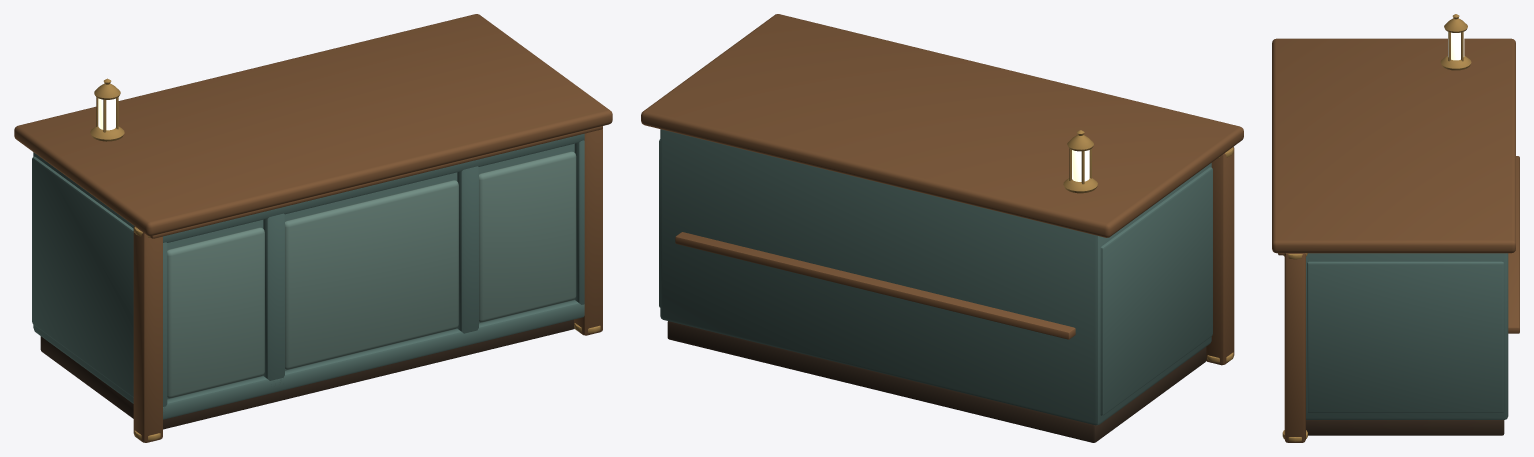
The model's file is hall_reception_desk.glb.
3 views of the same model, side by side, from view 1: azimuth 30°, elevation 25°; view 2: azimuth 150°, elevation 25°; view 3: azimuth 270°, elevation 25° (orthographic). The views are drawn at different scales.
Visible parts, largest first — view 1: Top, RaisedPanel.001, EndPanel, RaisedPanel, RaisedPanel.002, FrontRail, EndPost, Kick, EndPost.001, Carcass, FrontRail.001, FrontStile.002 (+4 smaller); view 2: Carcass, Top, EndPanel, Kick, StaffShelf, EndPost; view 3: Top, EndPanel.001, Carcass, EndPost.001, Kick, StaffShelf, LanternGlass, LanternBase, LanternCap.
Part boxes in pixels (<box>): Top: <box>14,14,612,236</box>; RaisedPanel.001: <box>285,180,458,369</box>; EndPanel: <box>32,156,133,397</box>; RaisedPanel: <box>167,227,264,398</box>; RaisedPanel.002: <box>479,151,576,322</box>; FrontRail: <box>163,300,584,419</box>; EndPost: <box>133,226,162,442</box>; Kick: <box>40,319,574,429</box>; EndPost.001: <box>574,128,602,335</box>; Carcass: <box>33,143,574,403</box>; FrontRail.001: <box>163,133,584,242</box>; FrontStile.002: <box>457,166,478,333</box>; Carcass: <box>660,129,1211,425</box>; Top: <box>641,14,1243,237</box>; EndPanel: <box>1100,167,1212,415</box>; Kick: <box>667,321,1206,442</box>; StaffShelf: <box>675,232,1075,339</box>; EndPost: <box>1206,146,1234,365</box>; Top: <box>1272,38,1515,253</box>; EndPanel.001: <box>1307,261,1504,412</box>; Carcass: <box>1306,253,1508,419</box>; EndPost.001: <box>1284,253,1305,442</box>; Kick: <box>1306,420,1504,435</box>; StaffShelf: <box>1508,156,1519,333</box>; LanternGlass: <box>1448,32,1464,60</box>; LanternBase: <box>1440,55,1471,70</box>; LanternCap: <box>1444,14,1467,32</box>.
Bounding box in the file's own units: 2.5 × 1.44 × 1.28.
